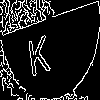K: (25, 25, 51, 78)
